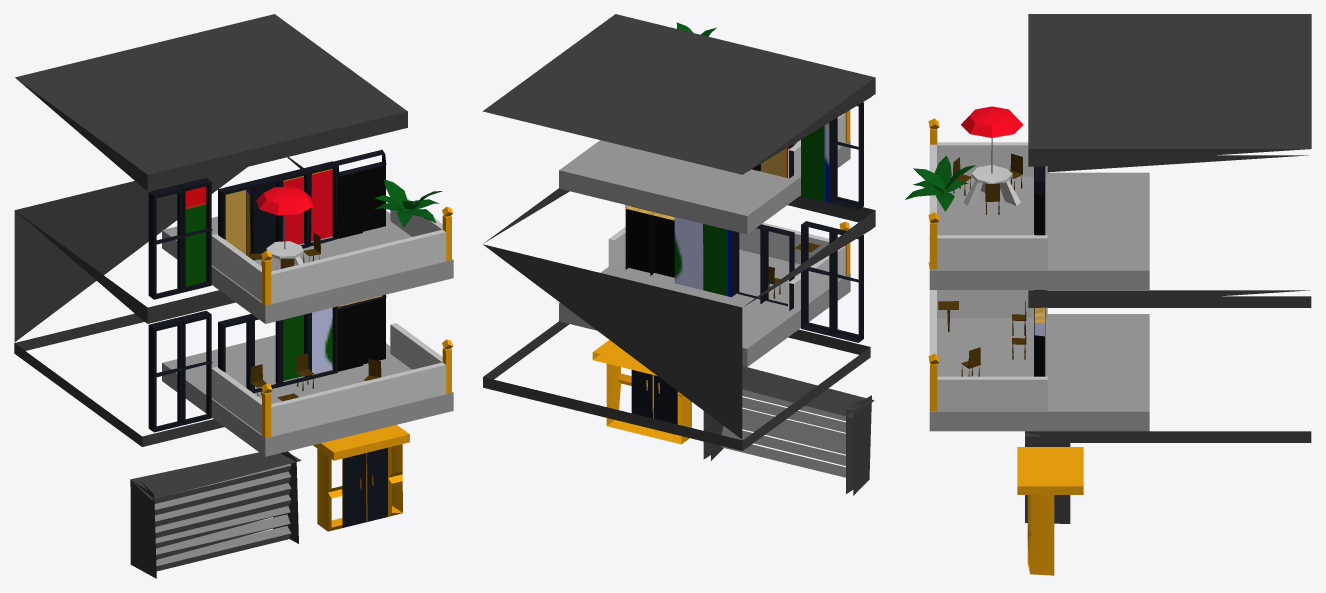
The model's file is PredioCentroMarromLOD1.fbx.
3 renders of one model, left to right at view 1: azimuth 30°, elevation 25°; view 2: azimuth 150°, elevation 25°; view 3: azimuth 270°, elevation 25°, orthographic. The views are drawn at different scales.
Visible parts, largest first — view 1: PredioFundacaoLOD1.001, Andar1LOD1.001, Andar2LOD1.001, GaragemLOD1.001; view 2: PredioFundacaoLOD1.001, Andar2LOD1.001, GaragemLOD1.001, Andar1LOD1.001; view 3: PredioFundacaoLOD1.001, Andar2LOD1.001, Andar1LOD1.001, GaragemLOD1.001.
Boxes of the visible parts, x1,y1,x2,y2 form: PredioFundacaoLOD1.001: (14, 14, 409, 531); Andar1LOD1.001: (162, 323, 453, 456); Andar2LOD1.001: (162, 179, 453, 323); GaragemLOD1.001: (130, 451, 301, 578); PredioFundacaoLOD1.001: (482, 14, 875, 450); Andar2LOD1.001: (559, 22, 850, 234); GaragemLOD1.001: (703, 366, 874, 495); Andar1LOD1.001: (559, 222, 850, 366); PredioFundacaoLOD1.001: (928, 14, 1311, 575); Andar2LOD1.001: (905, 106, 1149, 289); Andar1LOD1.001: (928, 290, 1149, 431); GaragemLOD1.001: (1025, 431, 1070, 523).
Size of the model in its own units: 782 by 1161 by 994.
